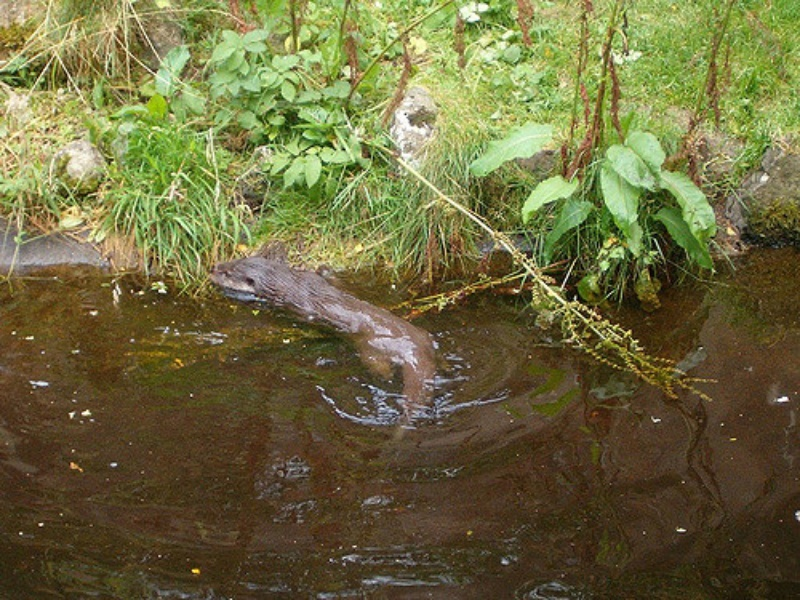minkish: (199, 244, 444, 441)
